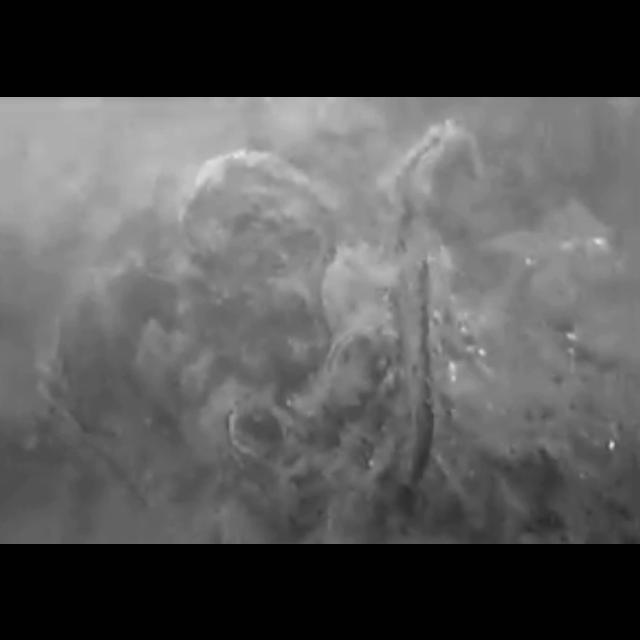Oyster-Closed: (175, 148, 339, 364)
Oyster-Open: (392, 247, 458, 498), (378, 116, 487, 258), (216, 390, 310, 472), (322, 326, 386, 414)
